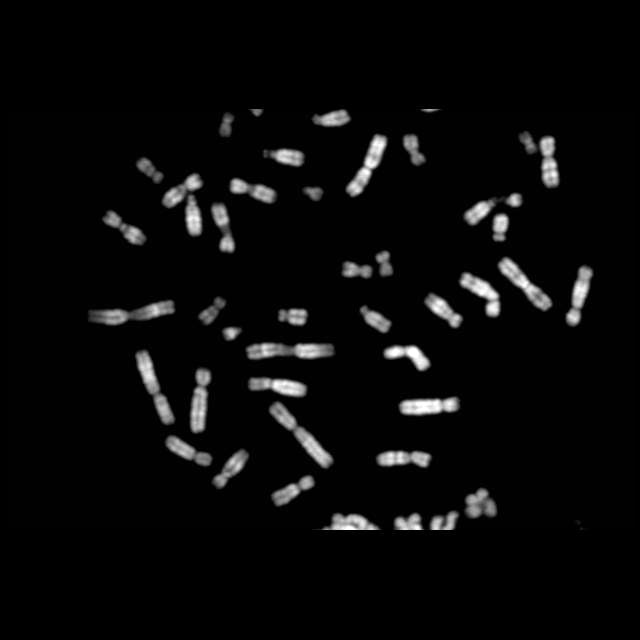chromosome: (268, 402, 332, 468), (498, 256, 552, 312), (135, 350, 175, 424), (346, 135, 386, 197), (87, 300, 173, 326), (458, 273, 499, 317), (566, 266, 594, 326), (248, 342, 332, 362), (104, 211, 148, 247), (212, 448, 250, 487), (165, 436, 212, 466), (423, 294, 462, 330), (162, 173, 203, 207), (399, 394, 458, 416), (384, 344, 430, 372), (190, 369, 210, 433), (272, 476, 314, 506), (229, 178, 276, 204), (249, 376, 307, 396), (212, 201, 234, 253), (466, 486, 496, 520), (464, 197, 496, 227), (376, 451, 429, 469), (541, 136, 559, 188), (360, 305, 392, 333), (183, 195, 202, 239), (261, 148, 305, 166), (198, 296, 226, 324), (402, 134, 426, 166), (136, 158, 167, 182), (312, 110, 350, 126), (276, 308, 308, 326), (341, 262, 371, 280), (491, 213, 509, 240), (518, 131, 538, 153), (377, 251, 393, 277), (218, 114, 234, 138), (302, 186, 323, 202), (505, 192, 523, 208), (224, 326, 241, 342)
